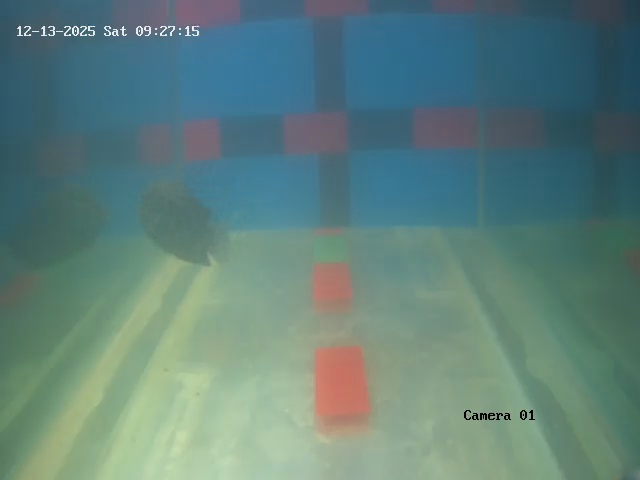fish: (129, 182, 245, 268)
